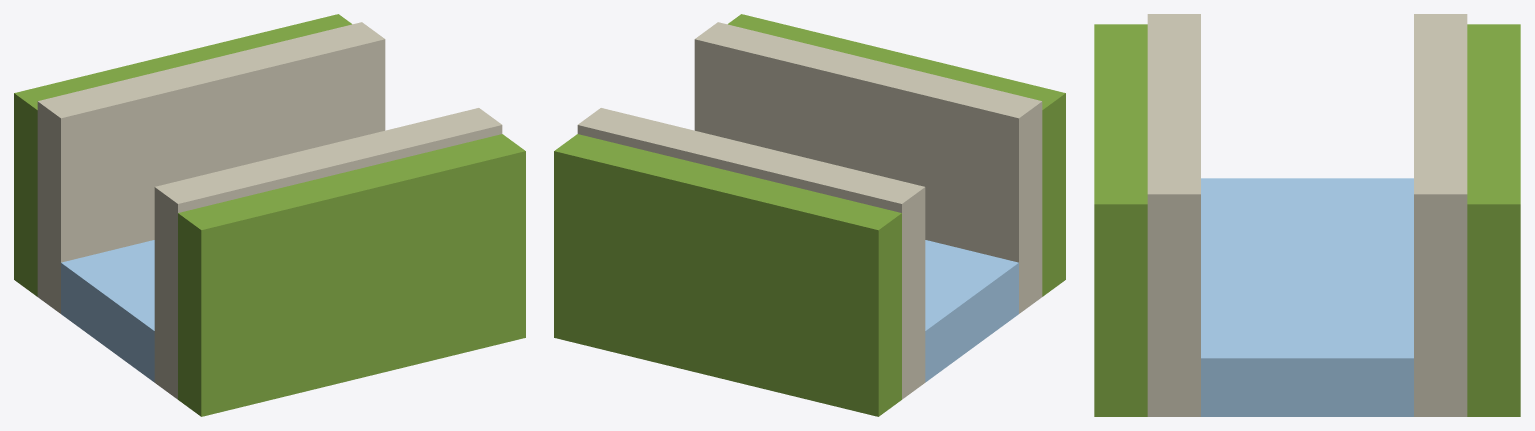
The model's file is roadTile_205.fbx.
3 views of the same model, side by side, from view 1: azimuth 30°, elevation 25°; view 2: azimuth 150°, elevation 25°; view 3: azimuth 270°, elevation 25° (orthographic). The views are drawn at different scales.
Parts seen in each view (by area): view 1: roadTile_205; view 2: roadTile_205; view 3: roadTile_205.
Boxes of the visible parts, x1=… form: roadTile_205: x1=14, y1=14, x2=525, y2=416; roadTile_205: x1=554, y1=14, x2=1065, y2=416; roadTile_205: x1=1094, y1=14, x2=1520, y2=416.
Bounding box in the file's own units: 118 × 68.11 × 118.
